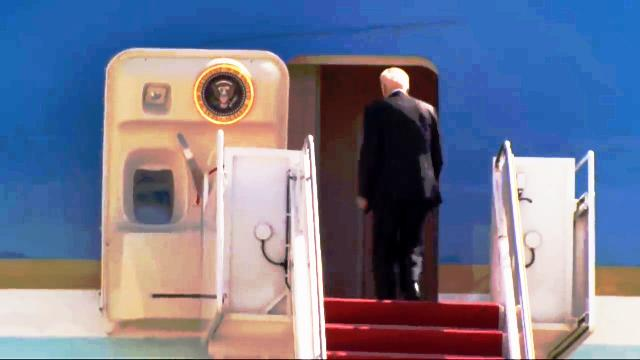berjalan: (345, 61, 449, 314)
